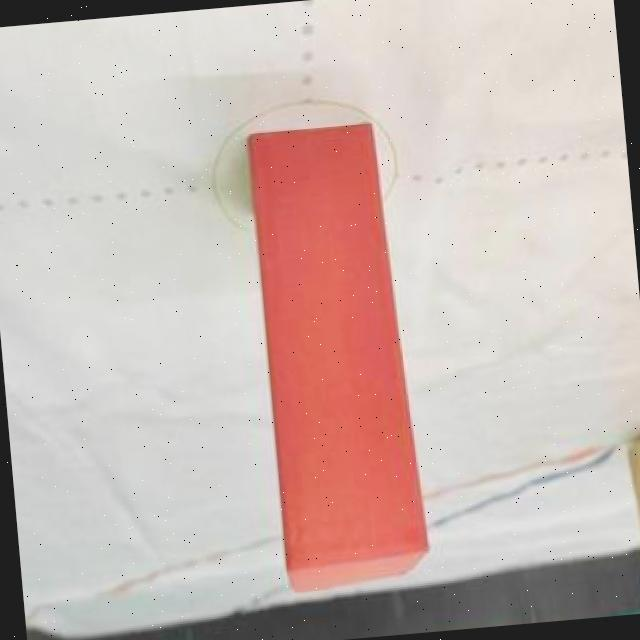redbox: (247, 120, 434, 594)
